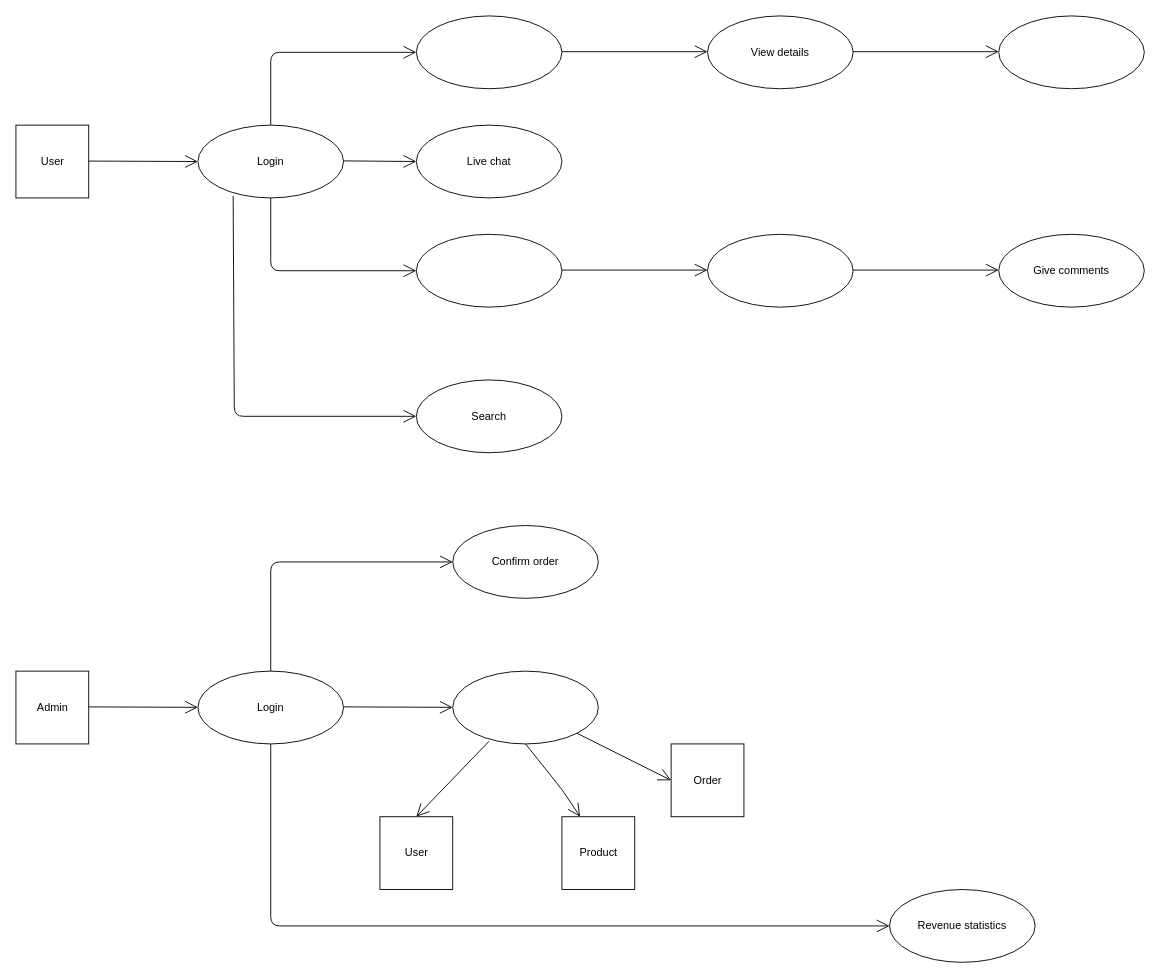
Some shapes in this 1160 by 978 pixel diagram are drawn without their labels. Each missing label, with the centre of its shape:
"Check order's status" belongs at (x=780, y=270).
"CRUD" belongs at (x=525, y=707).
"Purchase" belongs at (x=1071, y=52).
"View history" belongs at (x=488, y=270).
"View products" belongs at (x=488, y=52).
